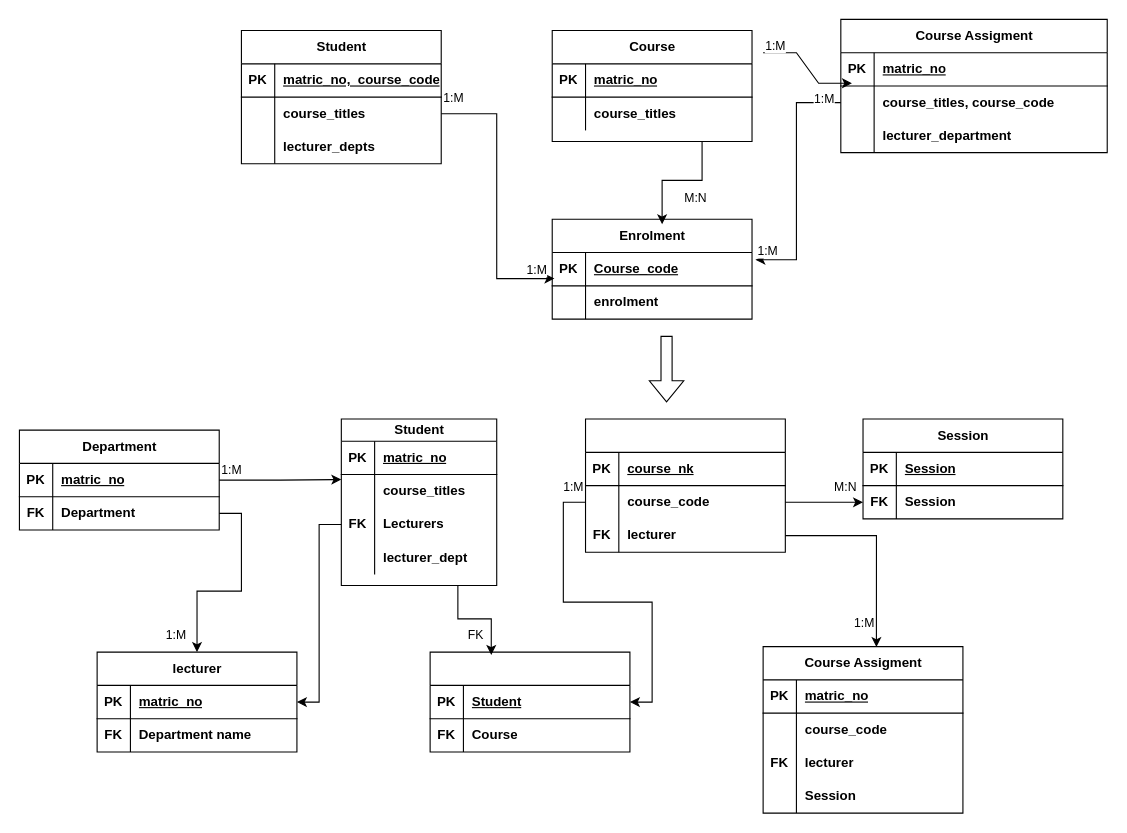
Some shapes in this 1127 by 833 pixel diagram are drawn without their labels. The shapes that lost their labels are listed below. From the top down, each one's box as (x1, y1, x2, y2) in pixels, then its label:
(584, 418, 785, 552): courses
(429, 651, 630, 752): Enrollment
